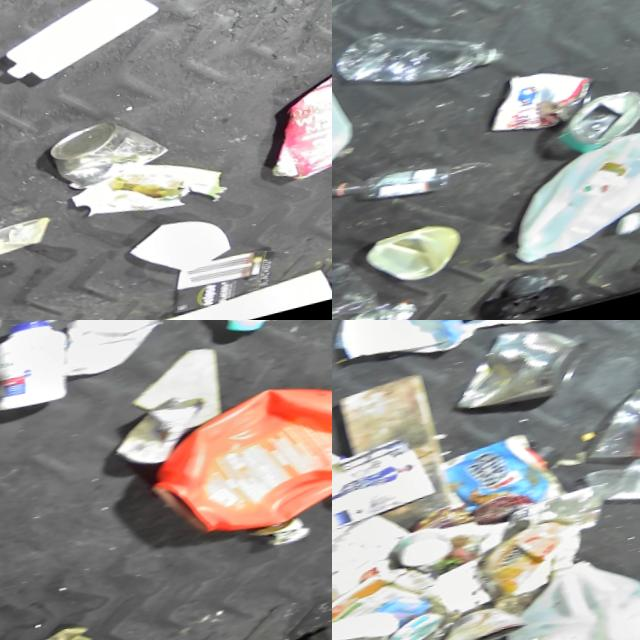can: (445, 320, 596, 424), (48, 113, 171, 200), (100, 395, 217, 481), (482, 64, 601, 148), (332, 159, 454, 220), (550, 92, 640, 167), (423, 604, 529, 640), (342, 300, 419, 320)
milk_jug: (500, 129, 640, 273), (0, 0, 165, 92), (491, 551, 640, 640)
non_white_jug: (138, 371, 332, 567)
plastic_bottle: (333, 8, 509, 108)
